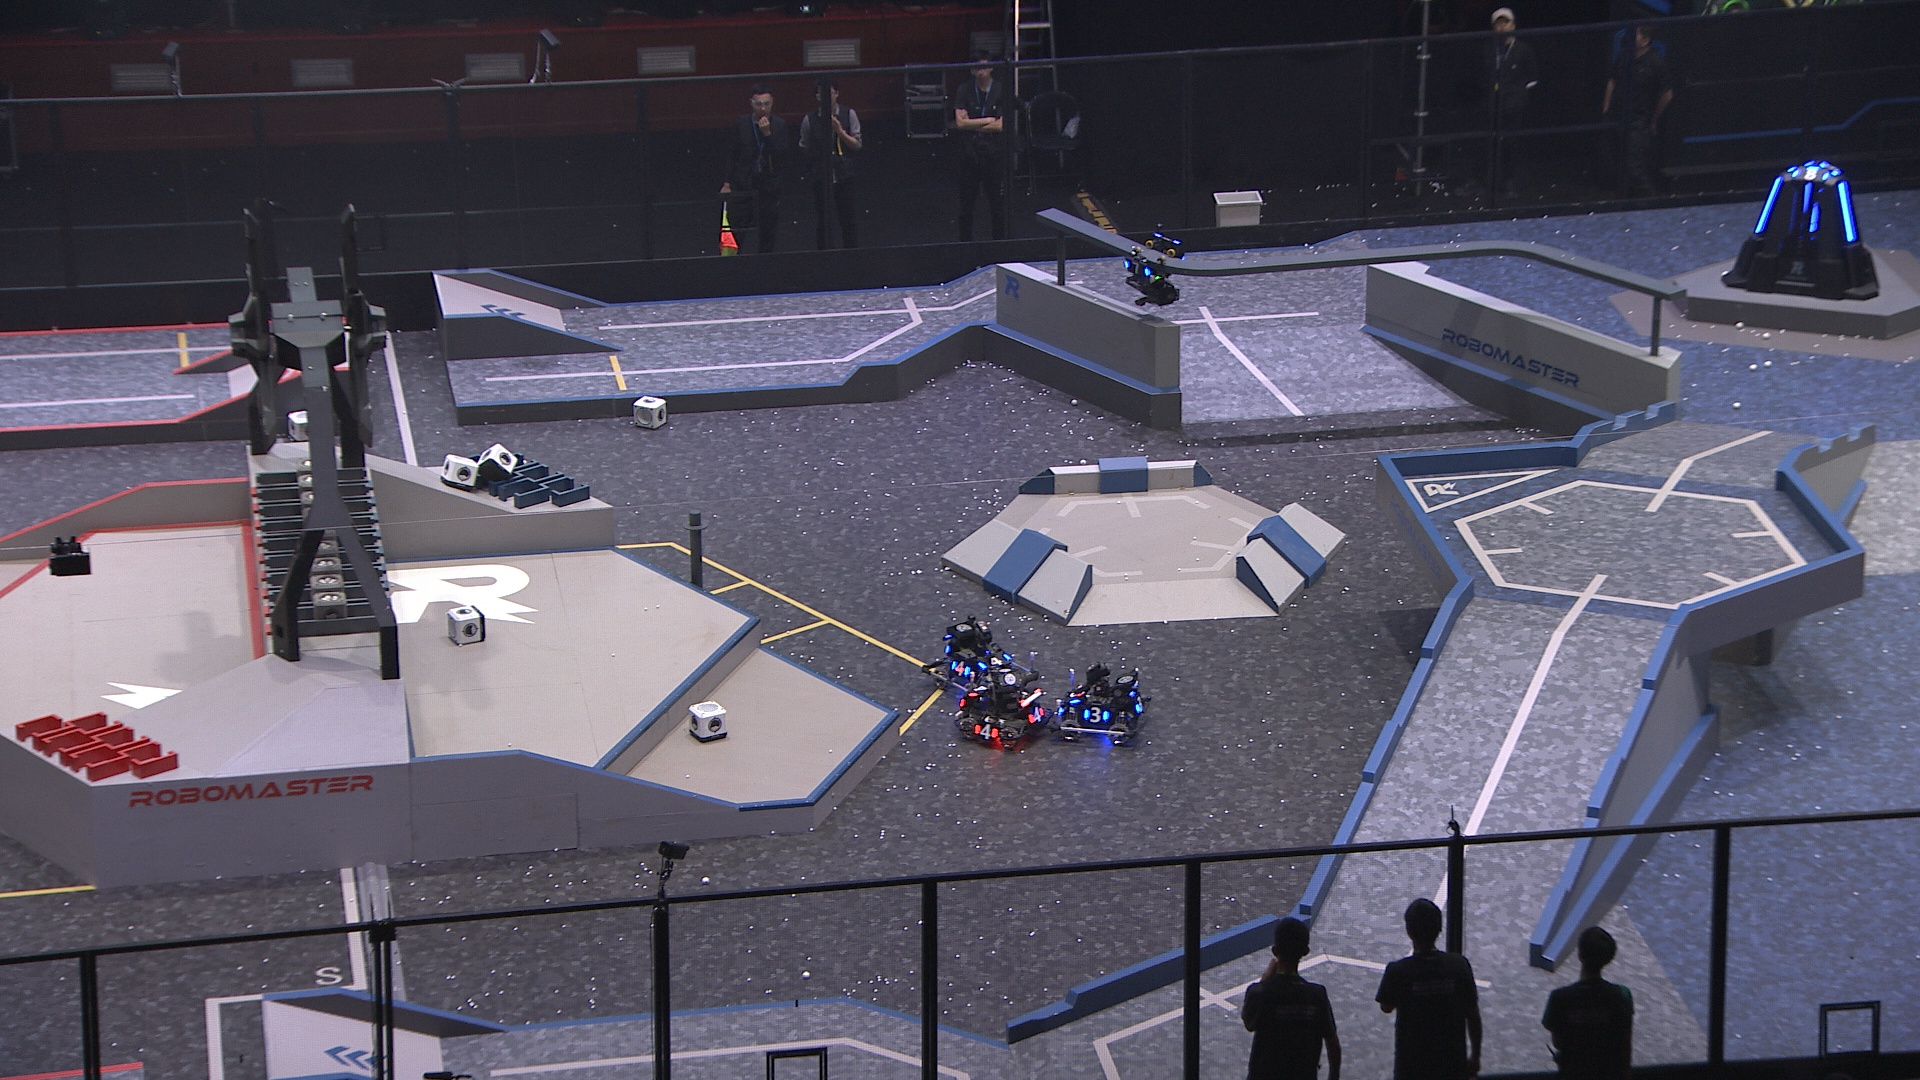armor: (1751, 174, 1784, 232), (1836, 182, 1855, 245), (1788, 164, 1832, 182), (969, 723, 1002, 741), (1124, 261, 1153, 280), (1803, 182, 1817, 218), (1081, 707, 1112, 723), (1026, 705, 1048, 727), (968, 679, 989, 702), (949, 659, 972, 680), (1069, 683, 1087, 705), (1134, 692, 1149, 713), (982, 655, 1004, 669)
base: (1721, 158, 1884, 301)
car: (955, 662, 1046, 750), (924, 618, 1021, 694), (1058, 669, 1149, 746)
watcher: (1121, 225, 1192, 306)
